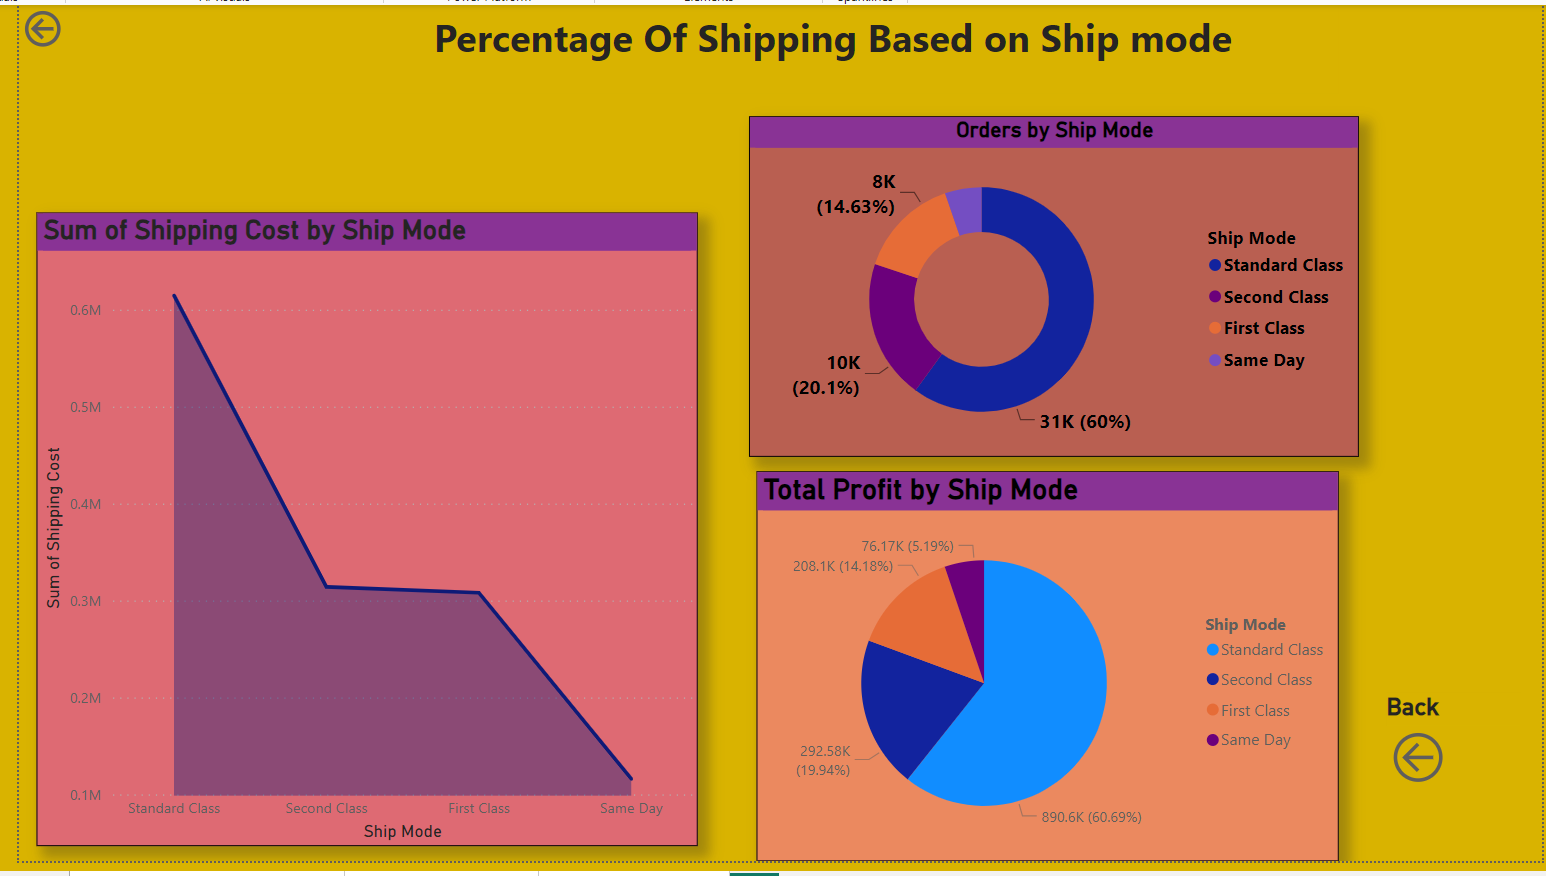

Layout of this report page (visuals, bound fields, positions):
{"tool":"powerbi","page":{"name":"Analysis on shipping","canvas":[1280,720],"ordinal":2},"visuals":[{"type":"donutChart","title":"Orders by Ship Mode","fields":{"Category":["Orders.Ship Mode"],"Y":["Orders.Total Orders"]},"box":[614,93,512.8,286],"z":0},{"type":"textbox","box":[150,0,959.3,74.4],"z":1000},{"type":"areaChart","fields":{"Category":["Orders.Ship Mode"],"Y":["Sum(Orders.Shipping Cost)"]},"box":[15.1,174.4,555.8,532.6],"z":2000},{"type":"pieChart","fields":{"Category":["Orders.Ship Mode"],"Y":["Orders.Total Profit"]},"box":[619.8,391.9,489.5,327.9],"z":3000},{"type":"actionButton","box":[0,0,100,40],"z":4000},{"type":"actionButton","title":"     Back","box":[1150,577.9,112.8,81.4],"z":5000}]}

Visuals, with their boxes in screenshot pixels (x1, y1, x2, y2), scaled from the page's 1280x720 canvas onto the 1546x876 screenshot:
"Orders by Ship Mode" donutChart: box=[742, 113, 1361, 461]
textbox: box=[181, 0, 1340, 91]
areaChart - Orders.Ship Mode x Sum(Orders.Shipping Cost): box=[18, 212, 690, 860]
pieChart - Orders.Ship Mode x Orders.Total Profit: box=[749, 477, 1340, 875]
actionButton: box=[0, 0, 121, 49]
"     Back" actionButton: box=[1389, 703, 1525, 802]
